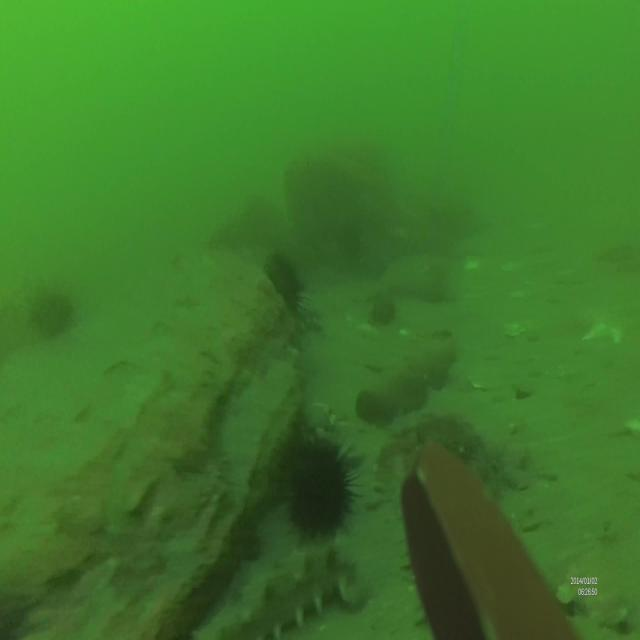echinus: (277, 433, 357, 542), (263, 252, 307, 314), (36, 290, 72, 338)
holothurian: (214, 543, 357, 640)
